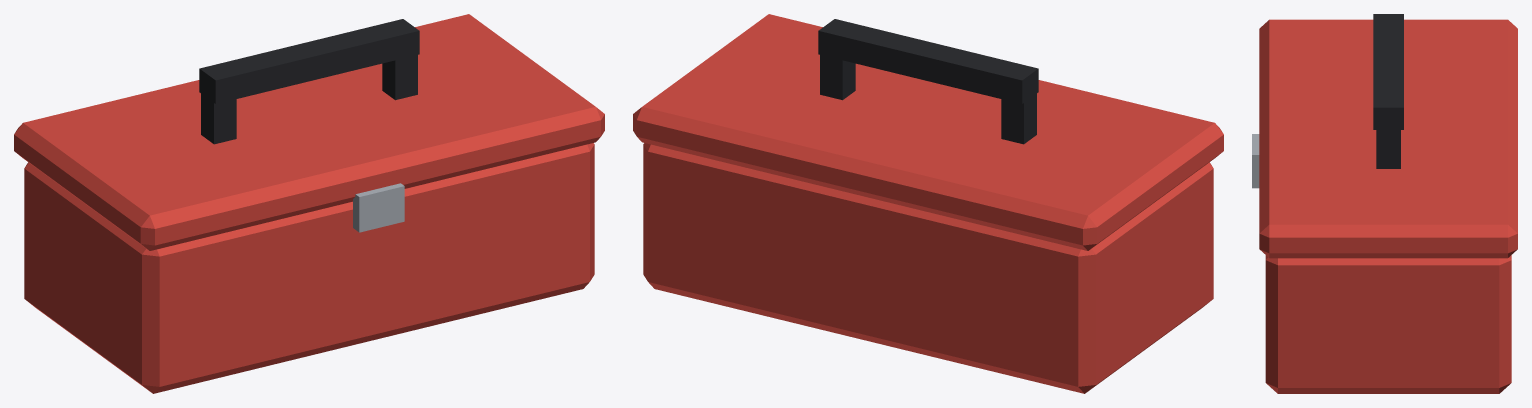
Rendered from toolbox.glb.
The picture shows the model from 3 angles, left to right: view 1: azimuth 30°, elevation 25°; view 2: azimuth 150°, elevation 25°; view 3: azimuth 270°, elevation 25°; orthographic projection. The views are drawn at different scales.
Parts seen in each view (by area): view 1: toolbox; view 2: toolbox; view 3: toolbox.
Part boxes in pixels (x1,y1,x2,y2): toolbox: [14, 14, 604, 393]; toolbox: [633, 14, 1223, 393]; toolbox: [1252, 14, 1517, 393].
Bounding box in the file's own units: 0.41 × 0.21 × 0.216.
1 material, 1 textured.
